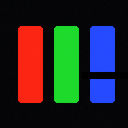3 line_h: (82, 72, 127, 78)
